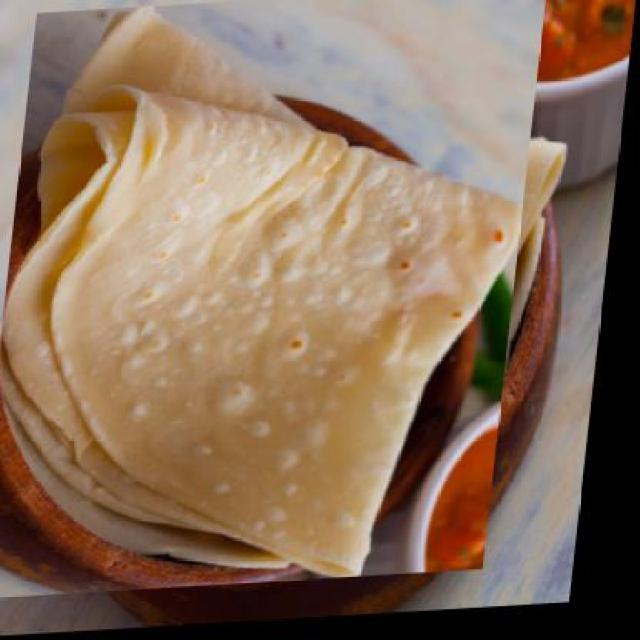chapati: (0, 8, 566, 583)
